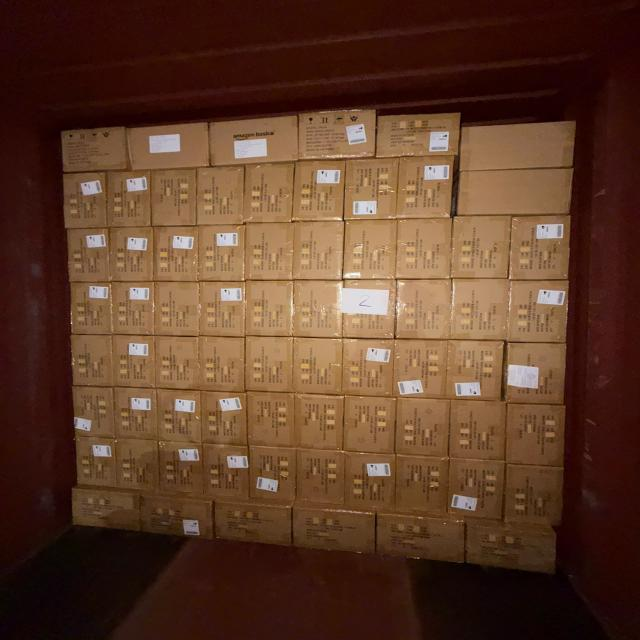Carton: (464, 121, 578, 173), (460, 170, 576, 218), (464, 522, 558, 578), (131, 489, 218, 540), (376, 518, 465, 567), (212, 117, 302, 165), (54, 124, 134, 176), (505, 341, 569, 405), (508, 214, 570, 279), (503, 462, 562, 530), (509, 279, 571, 343), (507, 403, 568, 467), (130, 124, 212, 171), (377, 114, 461, 159), (300, 112, 377, 161), (157, 443, 207, 518), (454, 218, 513, 281), (294, 512, 378, 556), (452, 281, 510, 344), (446, 459, 504, 522), (450, 400, 508, 462), (400, 158, 456, 221), (396, 281, 452, 344), (445, 339, 502, 400), (397, 220, 452, 282), (345, 159, 398, 223), (397, 396, 452, 457), (342, 282, 397, 342), (343, 219, 396, 281), (393, 340, 447, 400), (217, 506, 294, 548), (397, 456, 450, 517), (344, 454, 396, 515), (292, 163, 343, 225), (342, 395, 395, 454), (73, 487, 143, 531), (293, 336, 344, 396), (342, 338, 393, 397), (291, 280, 342, 339), (296, 222, 346, 282), (246, 162, 295, 222), (250, 447, 297, 508), (247, 224, 296, 282), (294, 394, 343, 452), (295, 450, 344, 508), (197, 169, 244, 229), (150, 172, 197, 230), (202, 445, 249, 503), (247, 336, 295, 392), (249, 393, 297, 449), (247, 280, 294, 337), (200, 281, 247, 338), (152, 281, 199, 338), (108, 171, 153, 230), (62, 172, 107, 230), (200, 392, 247, 447), (156, 389, 202, 444), (199, 228, 245, 283), (152, 229, 198, 284), (110, 226, 155, 282), (158, 335, 203, 390), (113, 280, 157, 335), (202, 336, 246, 391), (71, 334, 116, 387), (114, 334, 158, 388), (73, 387, 117, 440), (68, 228, 111, 282), (115, 389, 159, 441), (68, 280, 110, 334), (75, 440, 117, 490), (118, 438, 160, 488)
